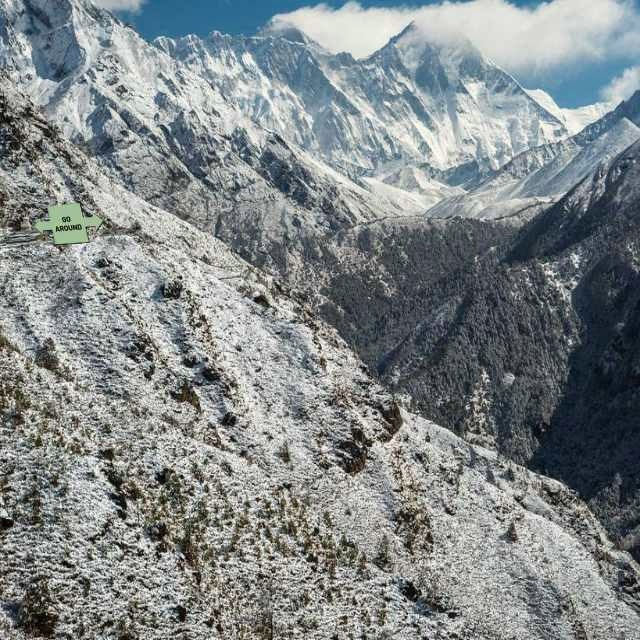GO_AROUND: (33, 202, 104, 245)
